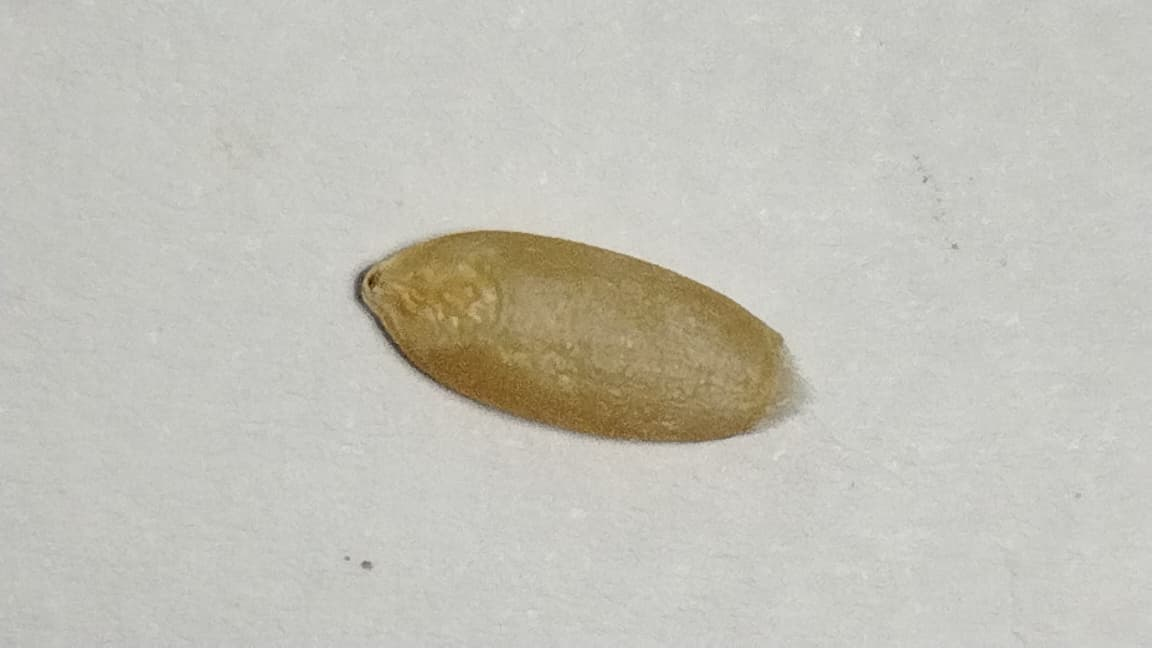healthy: (361, 231, 785, 440)
